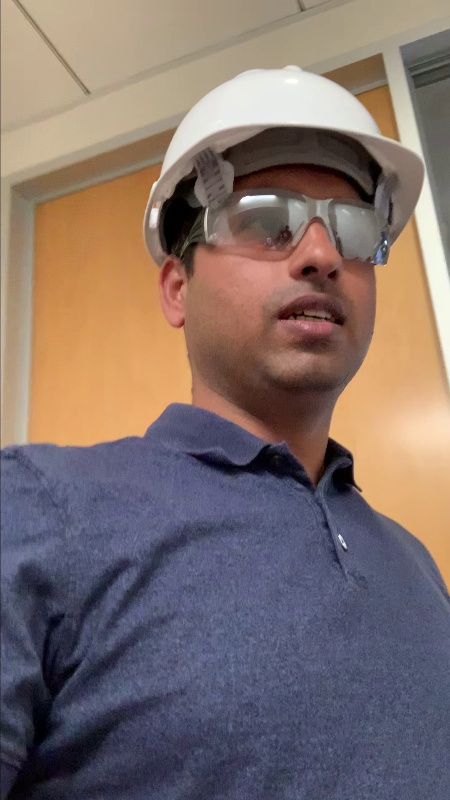glasses: (161, 185, 413, 272)
helmet: (129, 58, 428, 198)
